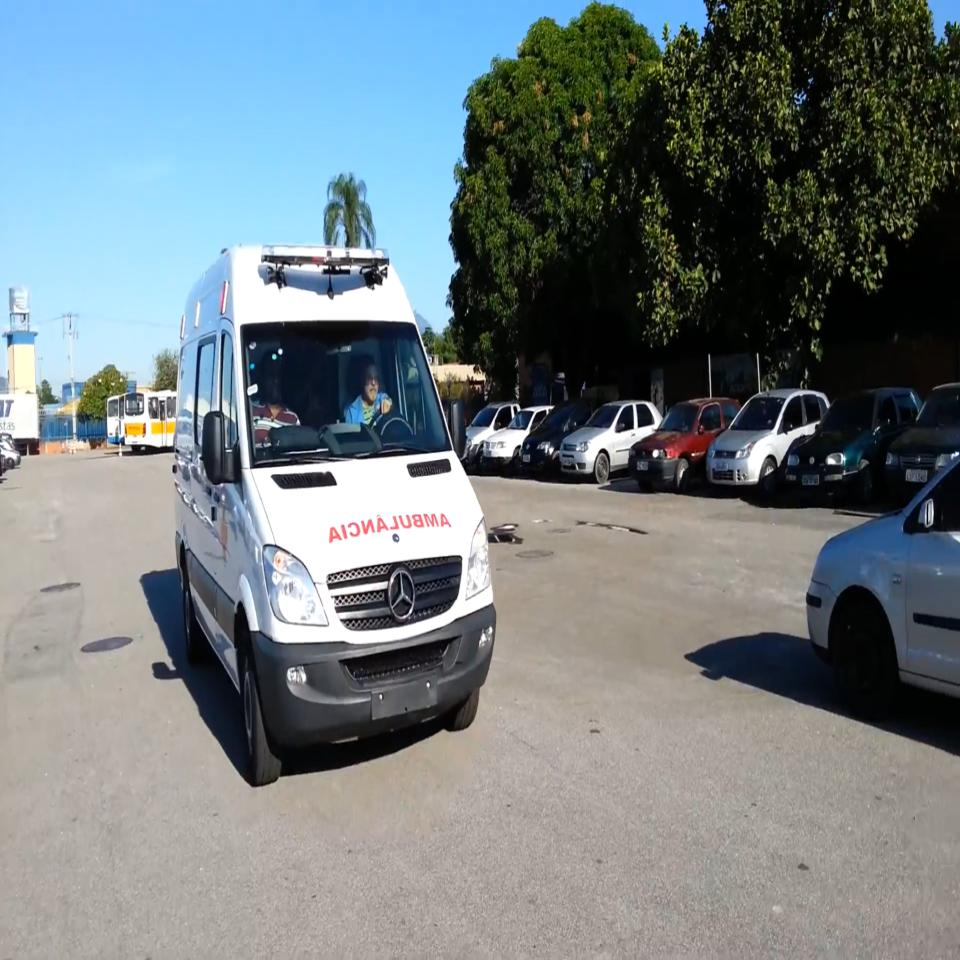bombeiro: (171, 243, 500, 784)
